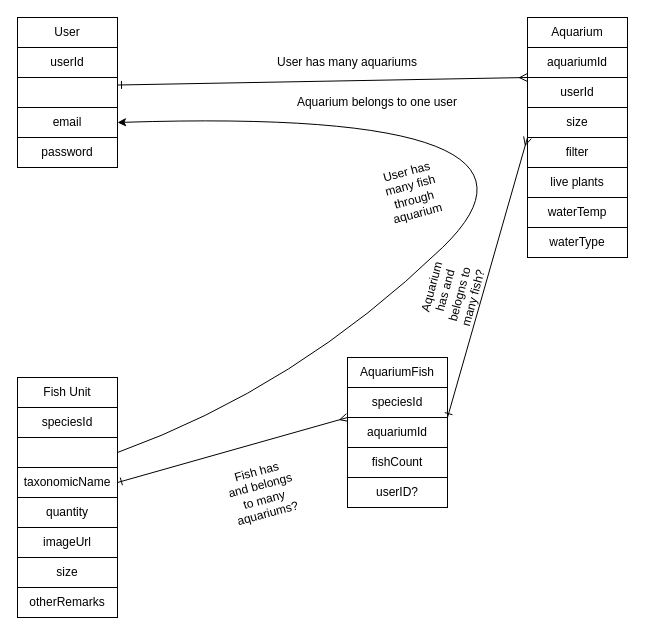
Some shapes in this 645 by 635 pixel diagram are drawn without their labels. Each missing label, with the centre of its shape:
"commonName" goes at pixel 67 452.
"username" goes at pixel 67 92.
